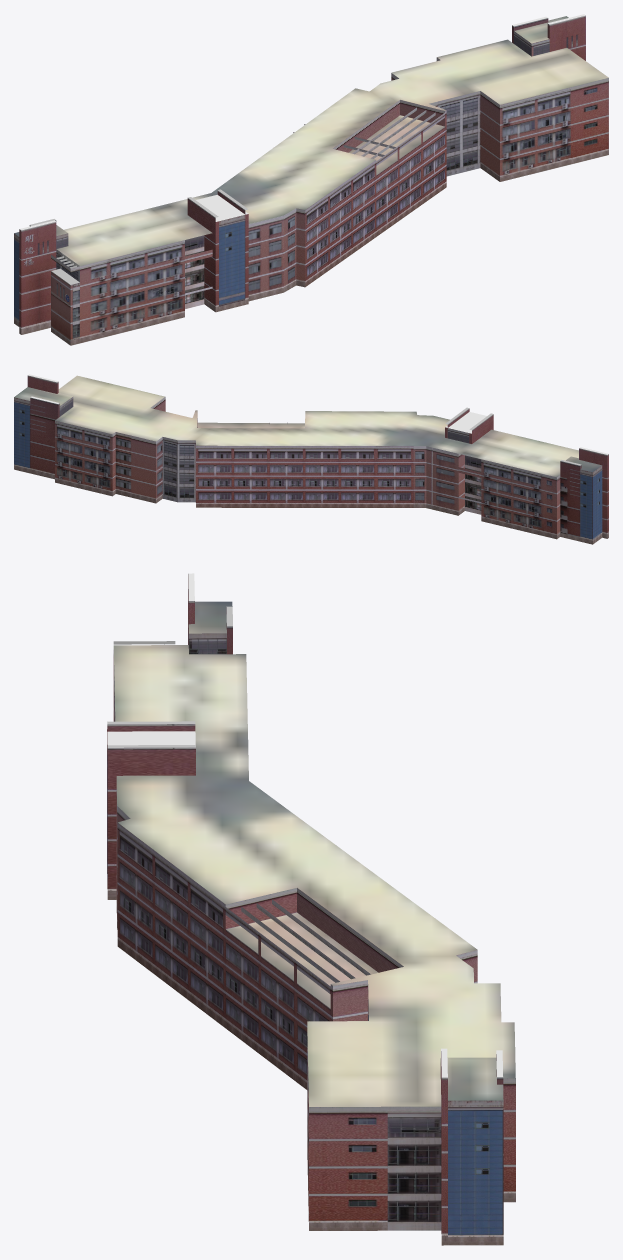
Rendered from jxl_c.gltf.
3 renders of one model, top to bottom at view 1: azimuth 30°, elevation 25°; view 2: azimuth 150°, elevation 25°; view 3: azimuth 270°, elevation 25°, orthographic. The views are drawn at different scales.
Visible parts, largest first — view 1: Mesh02#21; view 2: Mesh02#21; view 3: Mesh02#21.
Boxes of the visible parts, <box> form: Mesh02#21: <box>14,14,608,345</box>; Mesh02#21: <box>14,374,608,544</box>; Mesh02#21: <box>107,573,515,1245</box>.
Bounding box in the file's own units: 0.1351 × 0.021 × 0.0463.
Materials: 6 (3 with a texture image).
